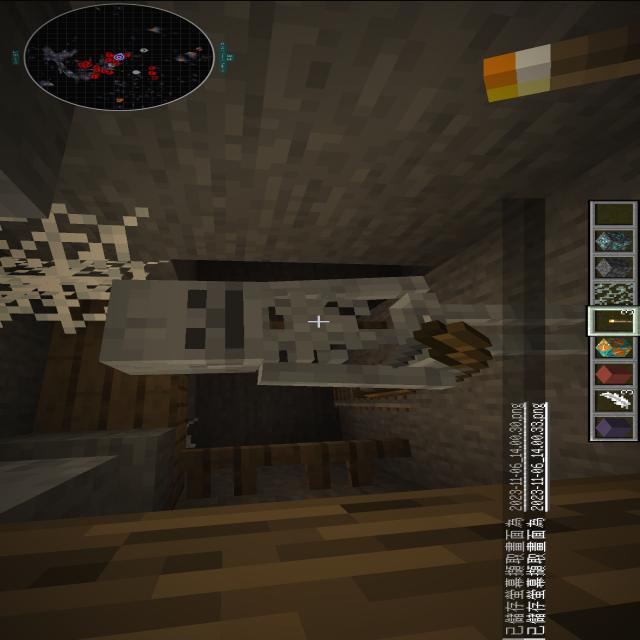Skeleton: (78, 233, 588, 412)
